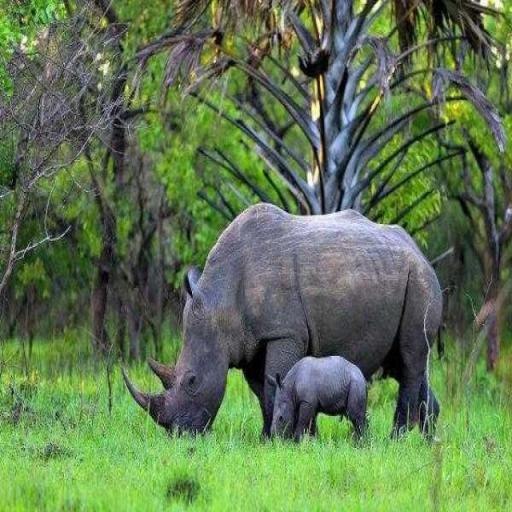Rhino: (120, 200, 445, 446), (264, 354, 368, 444)
